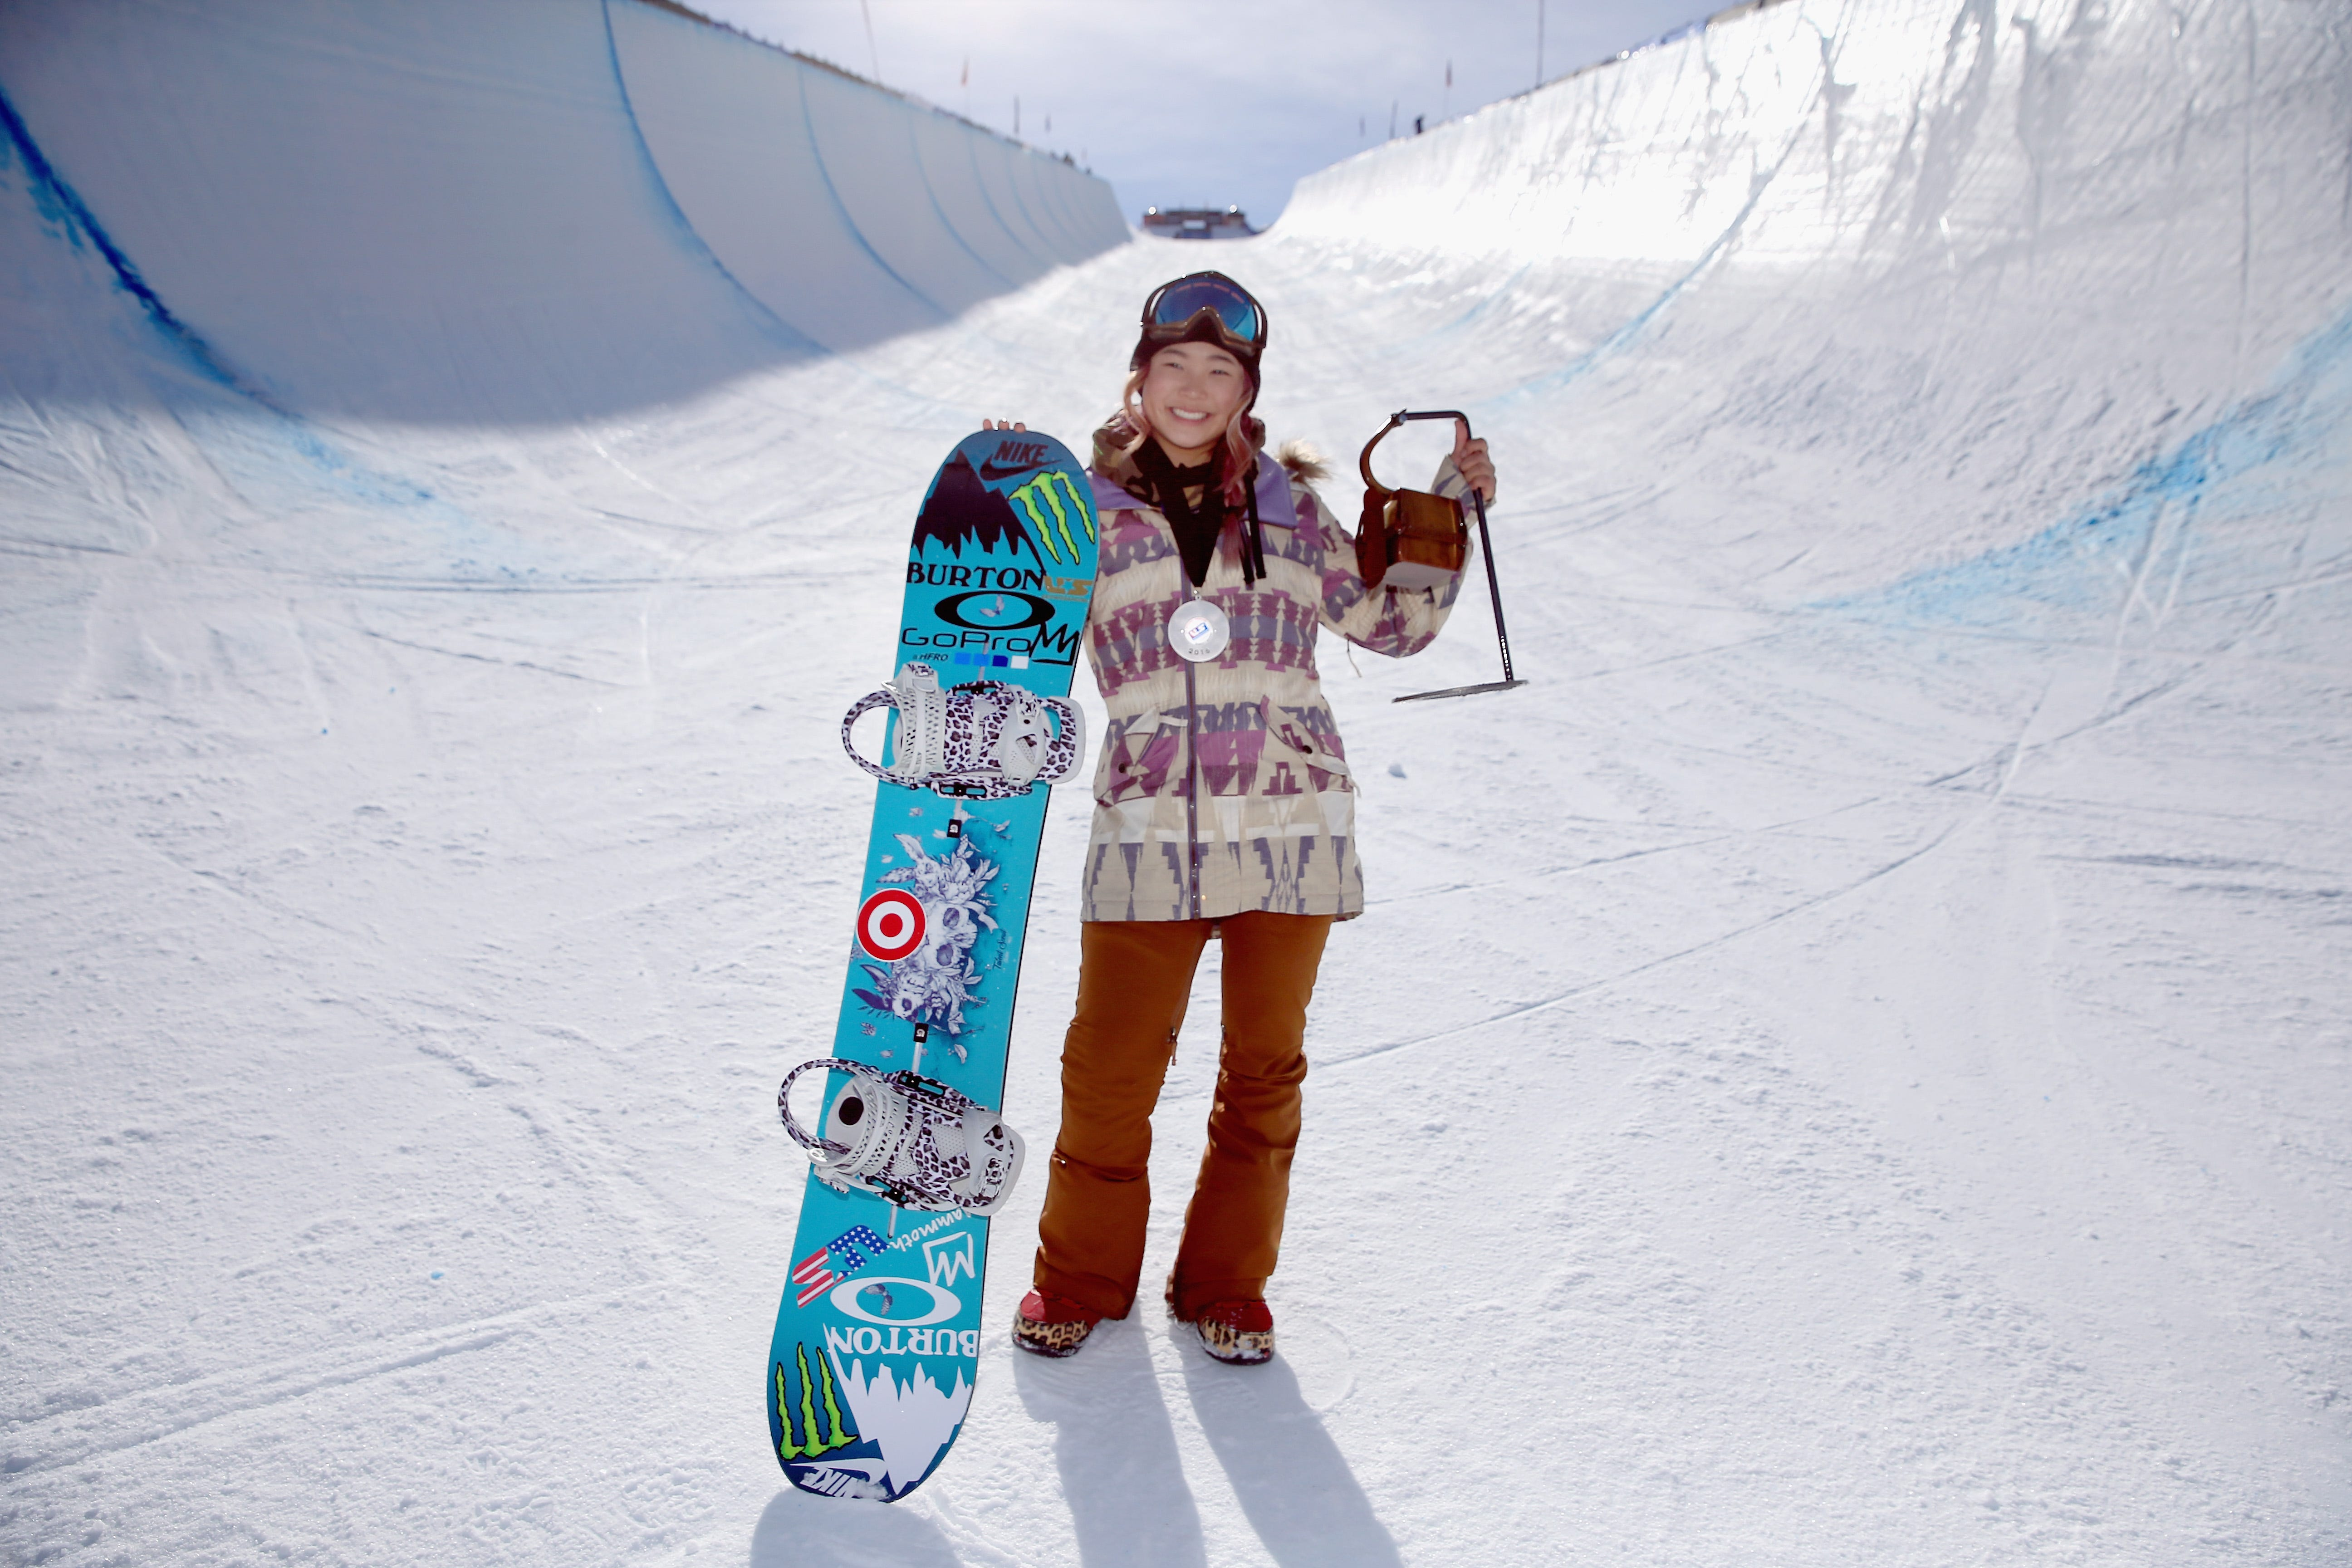snowboarder: (770, 275, 1500, 1494)
